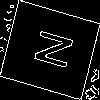N: (25, 25, 74, 72)
